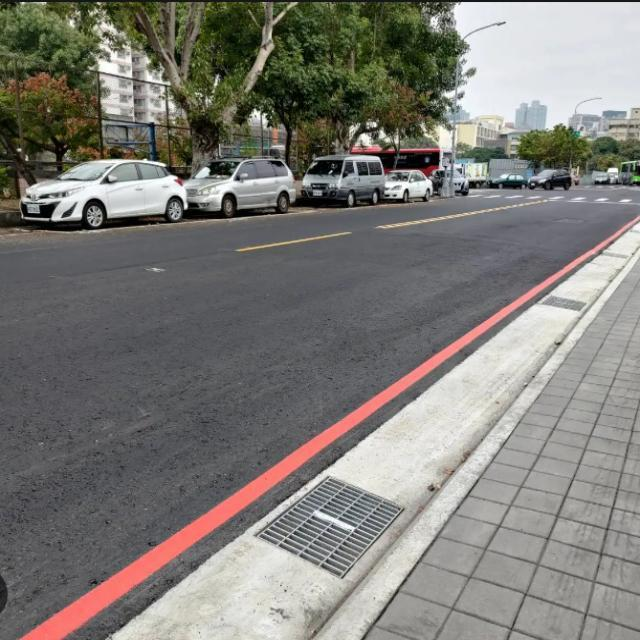manhole: (258, 478, 402, 577), (542, 295, 586, 311)
